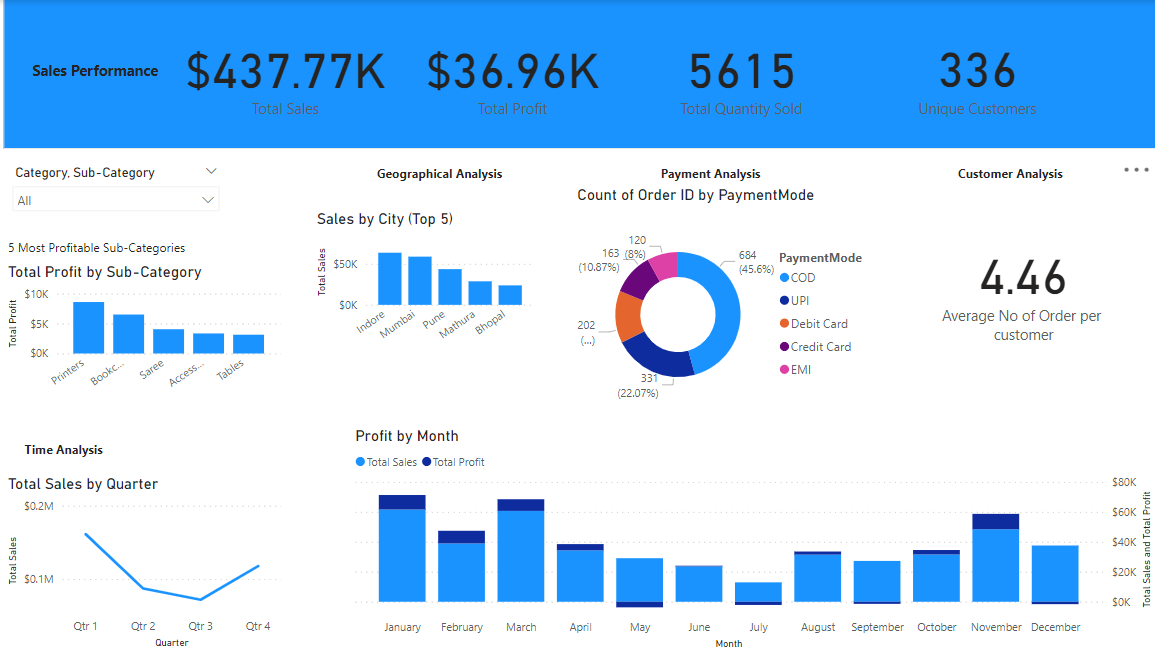

What the dashboard file says about the page in this screenshot:
{"tool":"powerbi","page":{"name":"Page 1","canvas":[1280,720],"ordinal":0},"visuals":[{"type":"shape","box":[9.6,0,1270.2,165.1],"z":0},{"type":"card","fields":{"Values":["Details.Total Profit"]},"box":[445.9,0,250.4,165.1],"z":1000},{"type":"card","fields":{"Values":["Details.Total Sales"]},"box":[195.4,0,250.4,165.1],"z":2000},{"type":"card","fields":{"Values":["Details.Total Quantity Sold"]},"box":[696.3,0,250.4,165.1],"z":3000},{"type":"textbox","box":[26.1,61.9,169.3,39.9],"z":4000},{"type":"slicer","title":"Category","fields":{"Values":["Details.Category","Details.Sub-Category"]},"box":[9.6,177.5,247.7,81.2],"z":5000},{"type":"textbox","box":[9.6,258.7,247.7,31.6],"z":6000},{"type":"clusteredColumnChart","fields":{"Category":["Details.Sub-Category"],"Y":["Details.Total Profit"]},"box":[9.6,290.4,311,150],"z":7000},{"type":"textbox","box":[415.6,177.5,155.5,31.6],"z":8000},{"type":"textbox","box":[728,177.5,155.5,28.9],"z":9000},{"type":"textbox","box":[1055.5,177.5,156.9,31.6],"z":10000},{"type":"columnChart","title":"Sales by City (Top 5)","fields":{"Category":["Orders.City"],"Y":["Details.Total Sales"]},"box":[349.3,231.7,250.1,156.3],"z":11000},{"type":"donutChart","fields":{"Category":["Details.PaymentMode"],"Y":["CountNonNull(Details.Order ID)"]},"box":[635.8,205,339.9,264.2],"z":12000},{"type":"card","fields":{"Values":["Details.Unique Customers"]},"box":[989.4,24.8,185.8,117],"z":13000},{"type":"card","fields":{"Values":["Details.Average Number of Order per customer"]},"box":[1026.6,205,213.3,207.8],"z":14000},{"type":"textbox","box":[28.1,482.1,105.3,42.1],"z":17000},{"type":"columnChart","title":"Profit by Month","fields":{"Category":["Orders.Order Date.Variation.Date Hierarchy.Month"],"Y":["Details.Total Sales","Details.Total Profit"]},"box":[391.6,470.7,888.1,250.1],"z":18000},{"type":"lineChart","fields":{"Category":["Orders.Order Date.Variation.Date Hierarchy.Quarter"],"Y":["Details.Total Sales"]},"box":[9.6,524.3,311,195.7],"z":18001}]}

Visuals, with their boxes in screenshot pixels (x1, y1, x2, y2), scaled from the page's 1280x720 canvas onto the 1155x651 screenshot:
shape: (9, 0, 1154, 149)
card - Details.Total Profit: (402, 0, 628, 149)
card - Details.Total Sales: (176, 0, 402, 149)
card - Details.Total Quantity Sold: (628, 0, 854, 149)
textbox: (24, 56, 176, 92)
"Category" slicer: (9, 160, 232, 234)
textbox: (9, 234, 232, 262)
clusteredColumnChart - Details.Sub-Category x Details.Total Profit: (9, 263, 289, 398)
textbox: (375, 160, 515, 189)
textbox: (657, 160, 797, 187)
textbox: (952, 160, 1094, 189)
"Sales by City (Top 5)" columnChart: (315, 209, 541, 351)
donutChart - Details.PaymentMode x CountNonNull(Details.Order ID): (574, 185, 880, 424)
card - Details.Unique Customers: (893, 22, 1060, 128)
card - Details.Average Number of Order per customer: (926, 185, 1119, 373)
textbox: (25, 436, 120, 474)
"Profit by Month" columnChart: (353, 426, 1154, 650)
lineChart - Orders.Order Date.Variation.Date Hierarchy.Quarter x Details.Total Sales: (9, 474, 289, 650)
